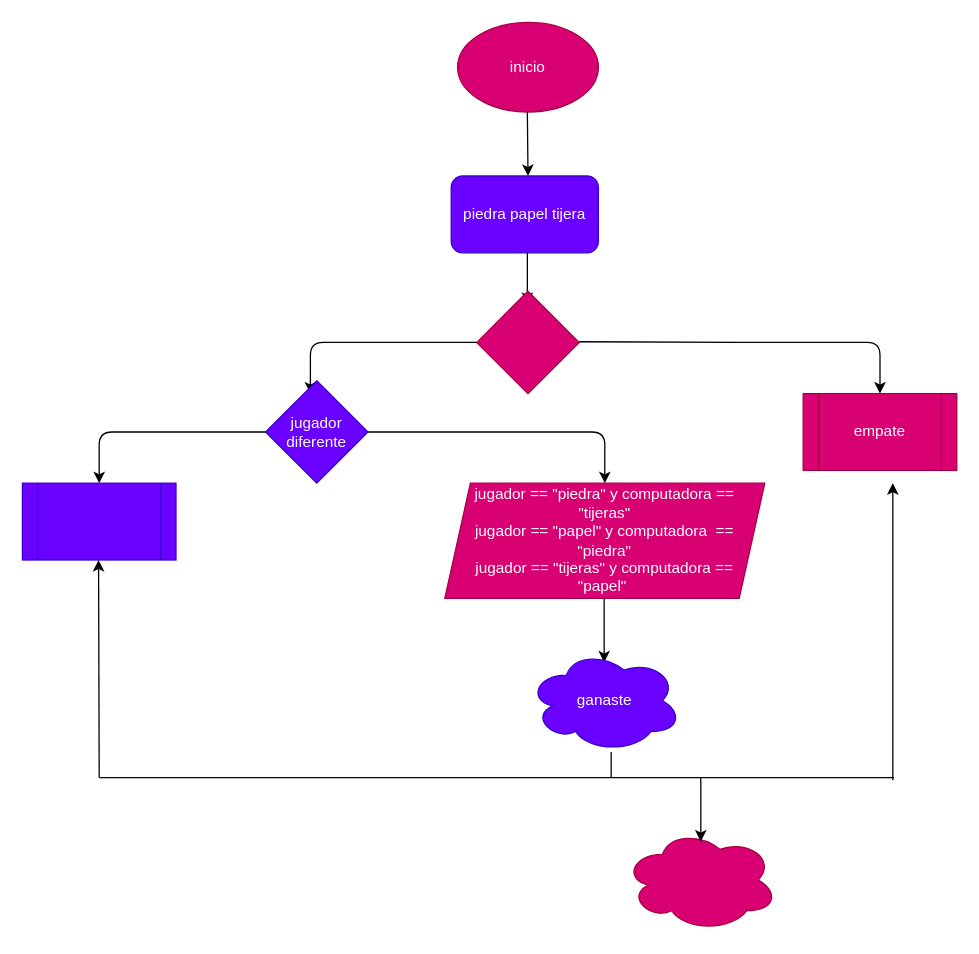
The diagram is 979 pixels wide and 954 high, and some of its shapes have lost their labels. The box of each missing label's shape, as (x1, y1, x2, y2) in pixels:
fin: (623, 828, 778, 931)
jugador == computador: (476, 290, 579, 394)
perdiste: (21, 482, 176, 560)
